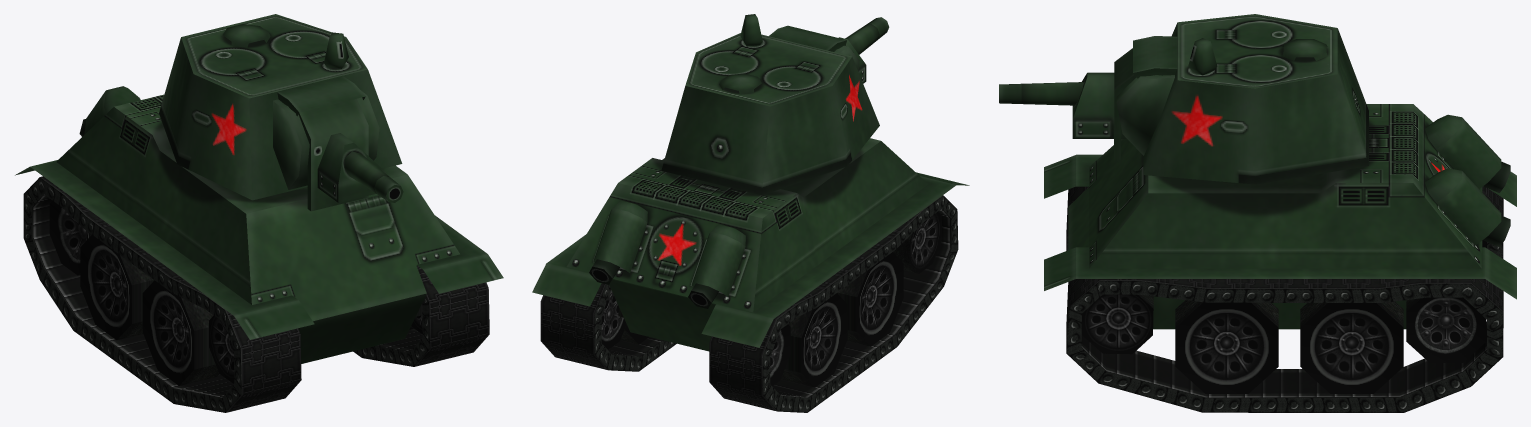
Rendered from T34-76-1943_SD_Model_Track.FBX.
3 views of the same model, side by side, from view 1: azimuth 30°, elevation 25°; view 2: azimuth 150°, elevation 25°; view 3: azimuth 270°, elevation 25° (orthographic). The views are drawn at different scales.
Visible parts, largest first — view 1: Body, RightTrack, Turret, Cannon, LeftTrack; view 2: Body, Turret, RightTrack, LeftTrack, Cannon; view 3: Body, LeftTrack, Turret, Cannon, RightTrack.
Part boxes in pixels (x1=…): Body: x1=15, y1=86, x2=503, y2=363; RightTrack: x1=23, y1=176, x2=301, y2=412; Turret: x1=159, y1=14, x2=402, y2=200; Cannon: x1=298, y1=98, x2=403, y2=211; LeftTrack: x1=353, y1=265, x2=489, y2=366; Body: x1=532, y1=138, x2=969, y2=351; Turret: x1=661, y1=14, x2=879, y2=195; RightTrack: x1=709, y1=195, x2=958, y2=412; LeftTrack: x1=540, y1=283, x2=676, y2=371; Cannon: x1=838, y1=17, x2=889, y2=83; Body: x1=1044, y1=104, x2=1516, y2=329; LeftTrack: x1=1066, y1=279, x2=1503, y2=412; Turret: x1=1116, y1=14, x2=1368, y2=185; Cannon: x1=999, y1=48, x2=1135, y2=162; RightTrack: x1=1066, y1=186, x2=1503, y2=258.
Bounding box in the file's own units: 1.07 × 1.33 × 1.89.
Materials: 2 (2 with a texture image).
